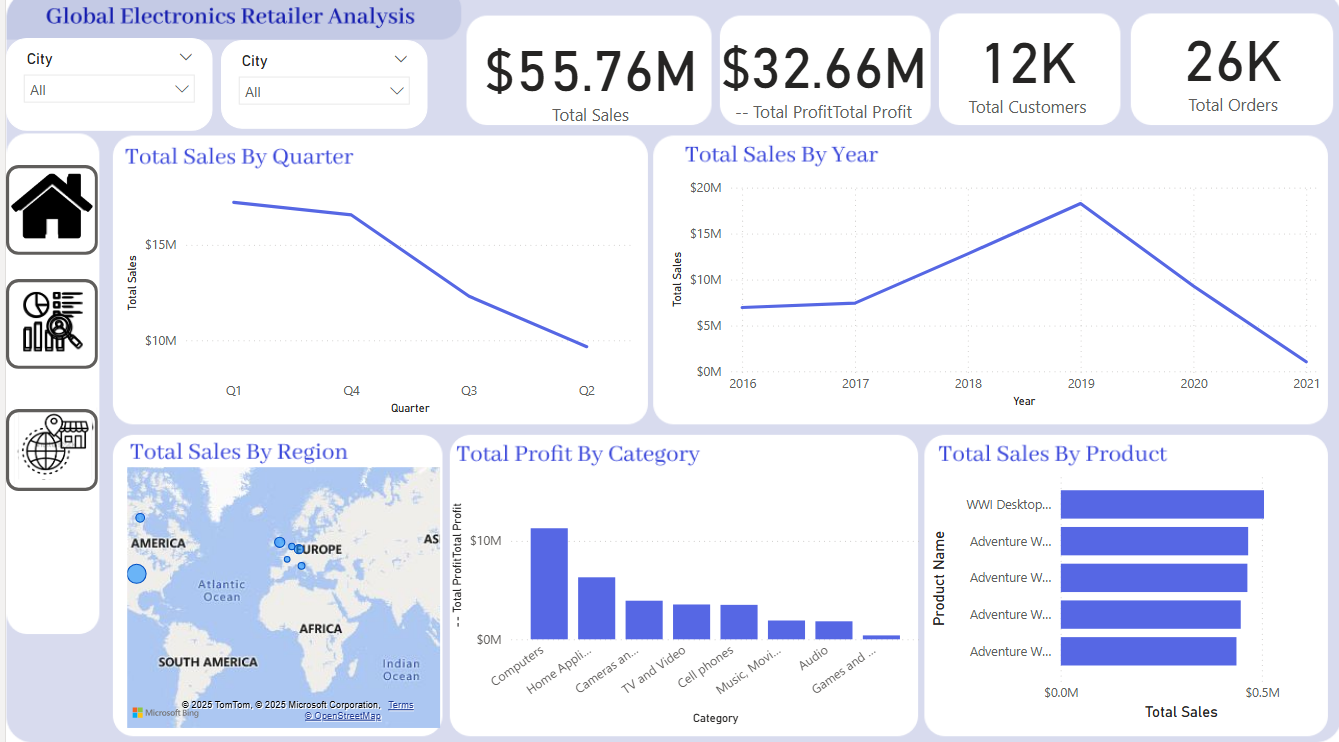

What the dashboard file says about the page in this screenshot:
{"tool":"powerbi","page":{"name":"Page 1","canvas":[1280,720],"ordinal":0},"visuals":[{"type":"image","box":[0,110.3,88.2,187],"z":0,"group":"g3"},{"type":"lineChart","fields":{"Category":["Sales.Quarter"],"Y":["Customers.Total Sales"]},"box":[110.3,171.6,496.7,235.9],"z":0},{"type":"lineChart","fields":{"Y":["Customers.Total Sales"],"Category":["Sales.Year"]},"box":[632.8,171.6,631.9,229.2],"z":1000},{"type":"image","box":[12.5,280,64.2,65.2],"z":1000,"group":"g3"},{"type":"image","box":[6.7,388.4,81.5,88.2],"z":2000,"group":"g3"},{"type":"map","fields":{"Size":["Customers.Total Sales"],"Category":["Customers.Country"]},"box":[111.2,448.7,309.7,259.8],"z":2000},{"type":"slicer","fields":{"Values":["Customers.City"]},"box":[0,42.2,198.5,89.2],"z":3000},{"type":"clusteredBarChart","fields":{"Category":["Products.Product Name"],"Y":["Customers.Total Sales"]},"box":[881.1,448.7,383.5,252.2],"z":4000},{"type":"columnChart","fields":{"Category":["Products.Category"],"Y":["Customers.-- Total ProfitTotal Profit"]},"box":[421.9,463.1,459.3,241.6],"z":5000},{"type":"card","fields":{"Values":["Customers.Total Sales"]},"box":[443,24,234.9,107.4],"z":6000},{"type":"card","fields":{"Values":["Customers.-- Total ProfitTotal Profit"]},"box":[677.9,25.9,211.9,97.8],"z":7000},{"type":"card","fields":{"Values":["Customers.Total Orders"]},"box":[1072.9,16.3,207.1,103.6],"z":8000},{"type":"card","fields":{"Values":["Customers.Total Customers"]},"box":[871.6,16.3,215.7,107.4],"z":9000},{"type":"slicer","fields":{"Values":["Customers.City"]},"box":[206.1,44.1,198.5,85.3],"z":11000},{"type":"group","id":"g1","title":"Group 1","box":[0,110.3,88.2,366.3],"z":12000},{"type":"group","id":"g2","title":"Group 2","box":[0,110.3,88.2,366.3],"z":12004,"group":"g1"},{"type":"group","id":"g3","title":"Group 3","box":[0,110.3,88.2,366.3],"z":12004,"group":"g2"},{"type":"actionButton","box":[0,164,88.2,86.3],"z":13000},{"type":"actionButton","box":[0,273.3,88.2,86.3],"z":14000},{"type":"actionButton","box":[0,397.9,88.2,78.6],"z":15000}]}

Visuals, with their boxes in screenshot pixels (x1, y1, x2, y2), scaled from the page's 1280x720 canvas onto the 1339x742 screenshot:
image: (0,114,92,306)
lineChart - Sales.Quarter x Customers.Total Sales: (115,177,635,420)
lineChart - Customers.Total Sales x Sales.Year: (662,177,1323,413)
image: (13,289,80,356)
image: (7,400,92,491)
map - Customers.Total Sales x Customers.Country: (116,462,440,730)
slicer - Customers.City: (0,43,208,135)
clusteredBarChart - Products.Product Name x Customers.Total Sales: (922,462,1323,722)
columnChart - Products.Category x Customers.-- Total ProfitTotal Profit: (441,477,922,726)
card - Customers.Total Sales: (463,25,709,135)
card - Customers.-- Total ProfitTotal Profit: (709,27,931,127)
card - Customers.Total Orders: (1122,17,1338,124)
card - Customers.Total Customers: (912,17,1137,127)
slicer - Customers.City: (216,45,423,133)
"Group 1" group: (0,114,92,491)
"Group 2" group: (0,114,92,491)
"Group 3" group: (0,114,92,491)
actionButton: (0,169,92,258)
actionButton: (0,282,92,371)
actionButton: (0,410,92,491)
